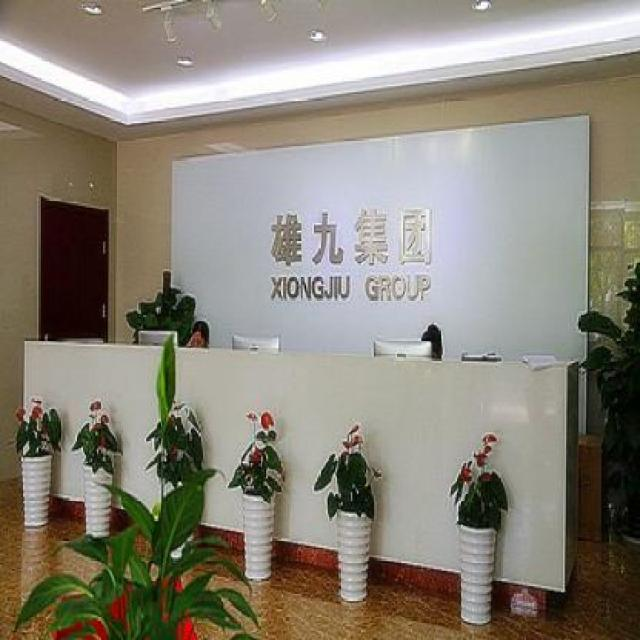frontdesk: (19, 326, 586, 631)
